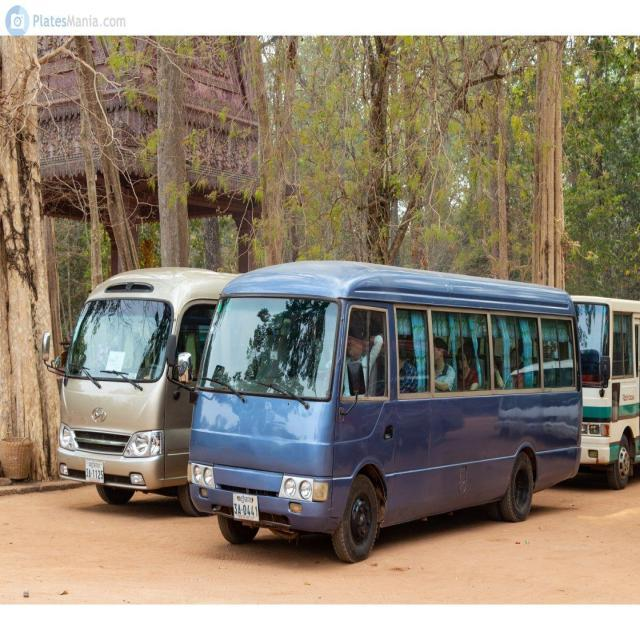Siem_Reap: (237, 496, 253, 504), (88, 462, 100, 468)
